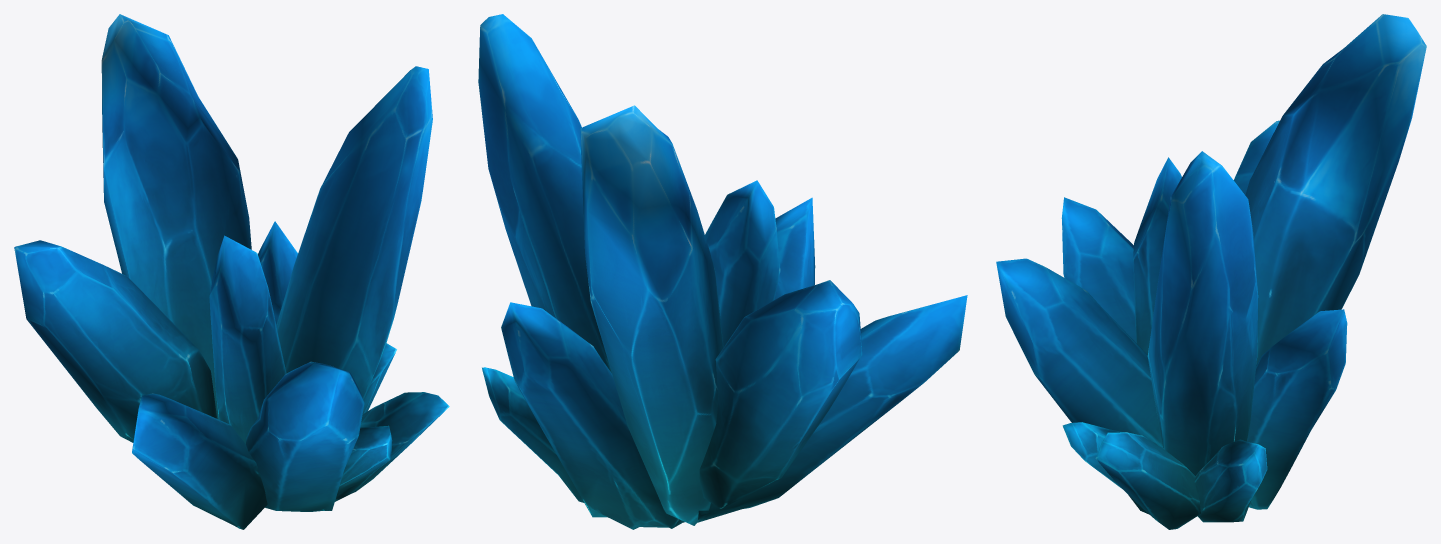
The model's file is tree_gem1.fbx.
3 renders of one model, left to right at view 1: azimuth 30°, elevation 25°; view 2: azimuth 150°, elevation 25°; view 3: azimuth 270°, elevation 25°, orthographic. The views are drawn at different scales.
Visible parts, largest first — view 1: gem006.001; view 2: gem006.001; view 3: gem006.001.
Boxes of the visible parts, box(x1,y1,x2,y2) form: gem006.001: box(14, 14, 449, 529); gem006.001: box(478, 14, 967, 529); gem006.001: box(996, 14, 1426, 529).
Bounding box in the file's own units: 1378 × 1573 × 1340.
